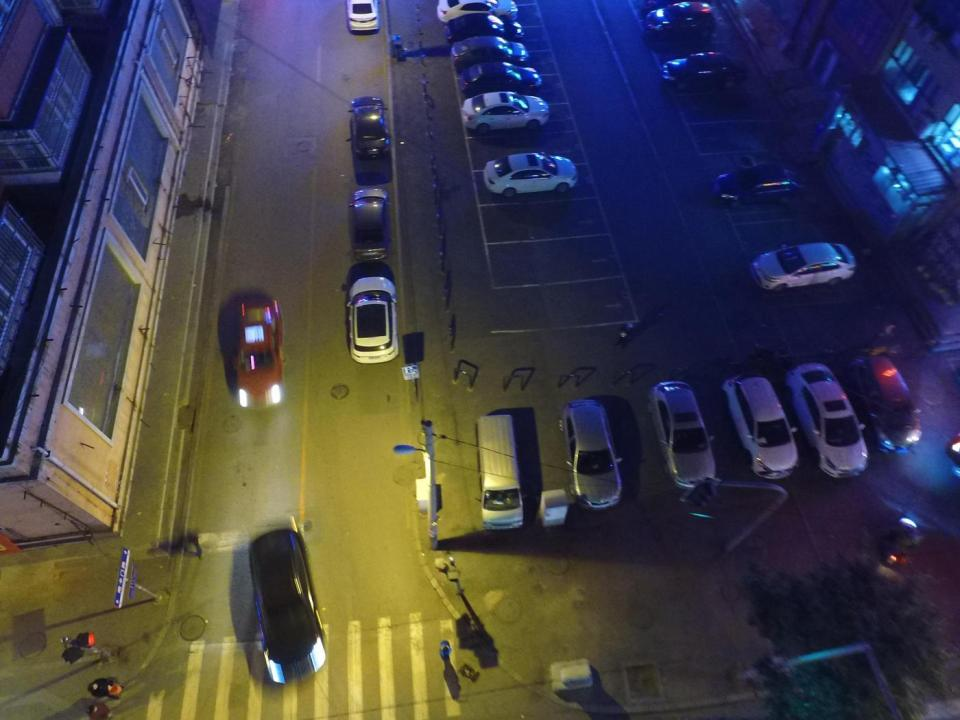car: (248, 527, 328, 684), (784, 364, 870, 478), (720, 373, 798, 481), (847, 354, 923, 454), (650, 380, 718, 490), (561, 399, 621, 511), (235, 300, 289, 406), (753, 241, 854, 293), (347, 275, 400, 363), (714, 161, 804, 212), (481, 151, 577, 197), (464, 90, 550, 134), (662, 51, 746, 94), (642, 1, 718, 44), (459, 62, 542, 98), (350, 188, 388, 261), (450, 35, 530, 69), (349, 95, 392, 156), (443, 15, 523, 40), (438, 0, 519, 23), (344, 0, 381, 35)
van: (471, 415, 526, 531)
